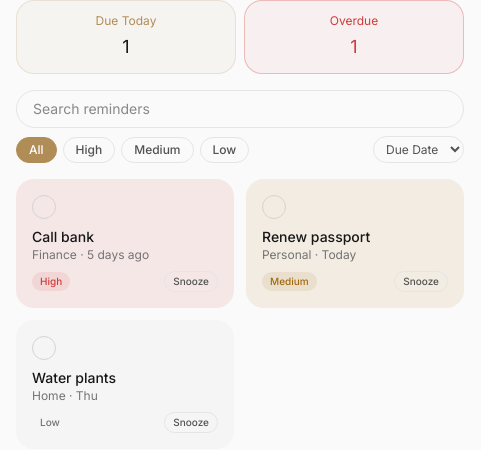
Test: RemindersListView › filters rows by search query
In the field with test id "reminders-search-input": coordinates (240, 109) [16,90,464,128], type "passport"
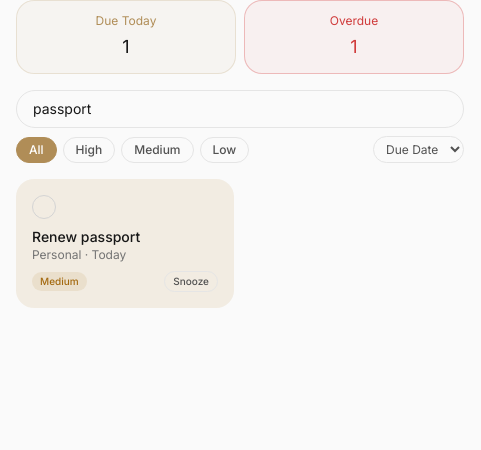
Check: the number of elements with test id "reminder-row" is 1, box [16,179,234,308]
